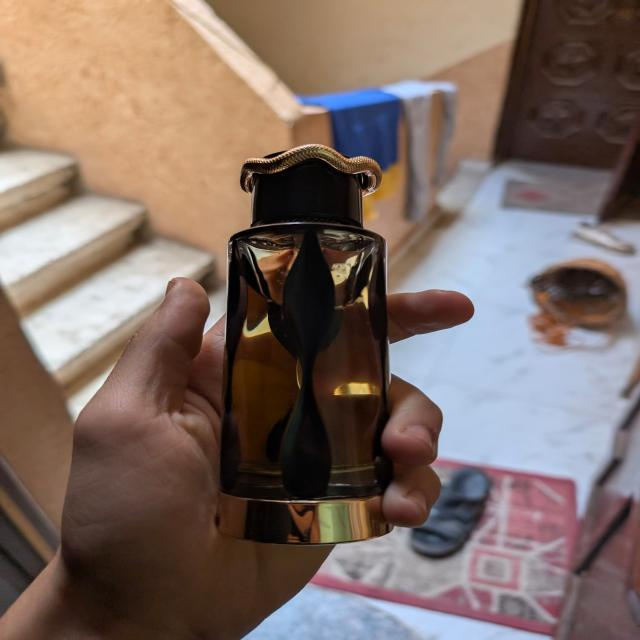Teriaq-Intense: (212, 142, 400, 548)
